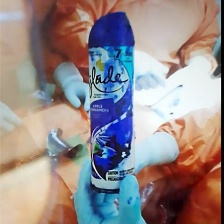aerosol_cans: (83, 7, 140, 198)
